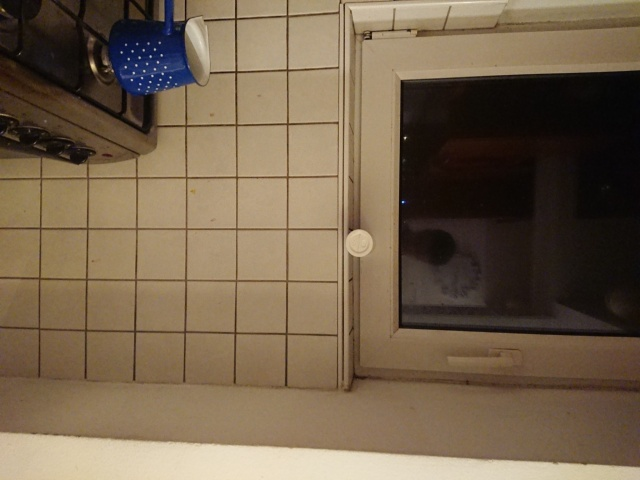Solana Pag Fine Sea Salt 250g: (343, 228, 375, 259)
